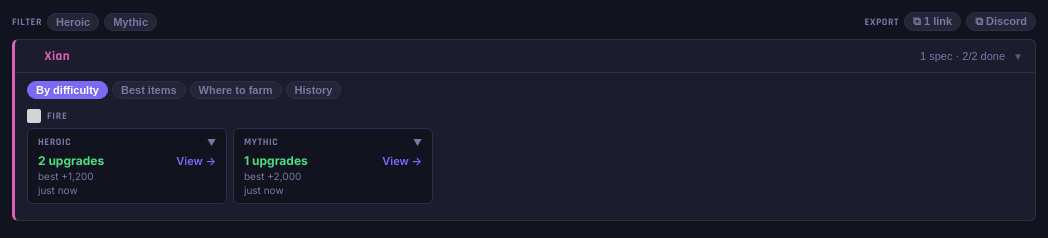
it: ResultsPanel › switches to the best-items and where-to-farm views
Click the tab "Best items" at coordinates (149, 90), box [112, 81, 186, 99]
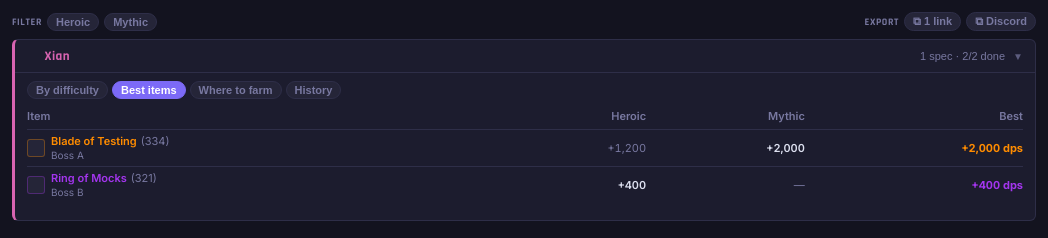
Result: the element with test id "best-items" is shown at [27, 109, 1023, 204]
Result: the text "+2,000 dps" is shown at [811, 130, 1023, 167]
Click the tab "Where to farm" at coordinates (236, 90), box [190, 81, 282, 99]
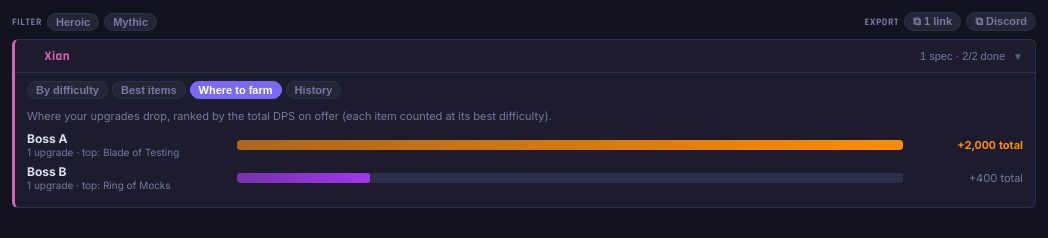
Result: the element with test id "farm-view" is shown at [27, 109, 1023, 191]
Result: the text "+2,000 total" is shown at [957, 138, 1023, 152]
